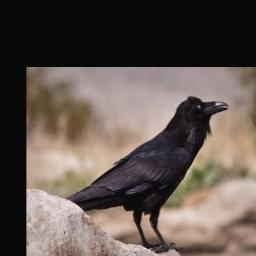Crow: (63, 91, 231, 250)
